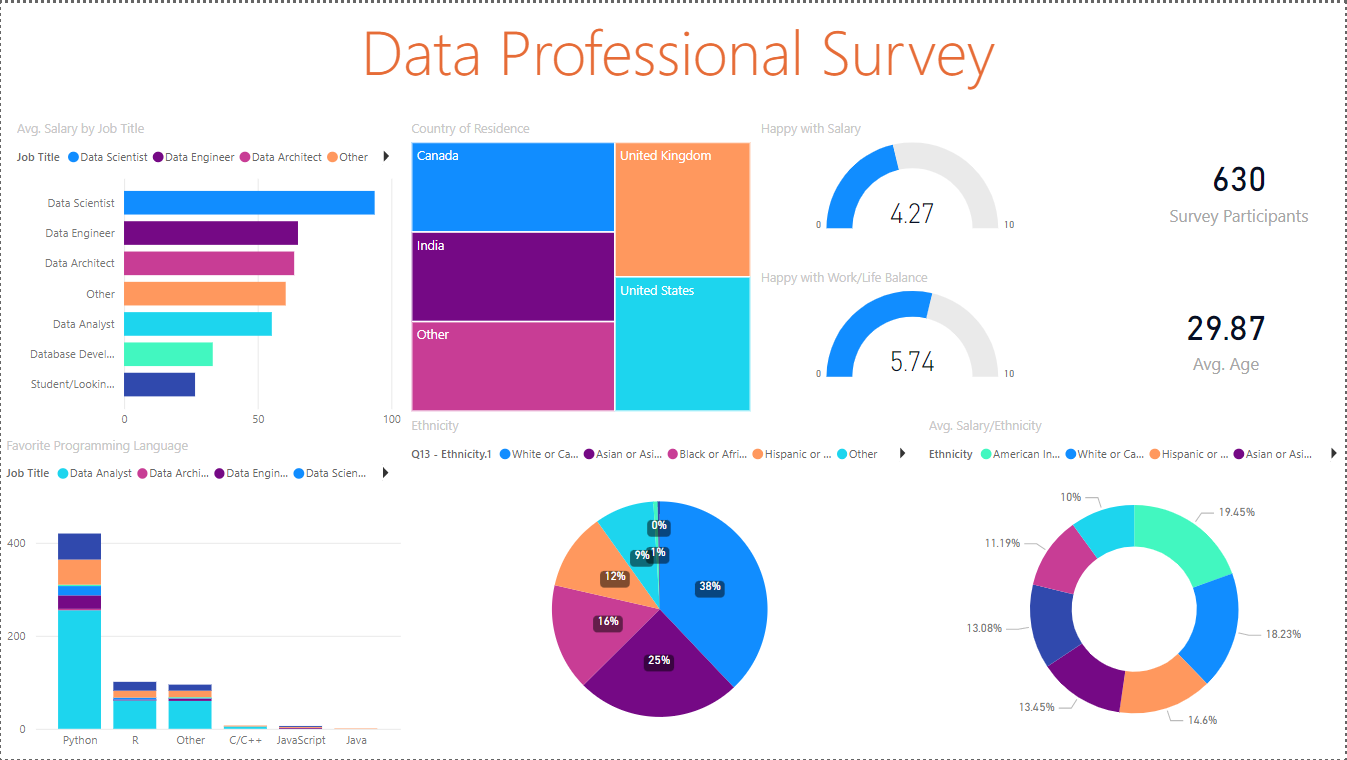

The page's visual inventory and layout, read from the dashboard file:
{"tool":"powerbi","page":{"name":"Page 1","canvas":[1280,720],"ordinal":0},"visuals":[{"type":"textbox","box":[9.9,0,1269.6,110.8],"z":0},{"type":"card","fields":{"Values":["Count(Data Professional Survey.Unique ID)"]},"box":[1079,111.4,200.5,128.1],"z":1000},{"type":"card","fields":{"Values":["Avg(Data Professional Survey.Q10 - Current Age)"]},"box":[1052.6,253.4,226.9,128.1],"z":2000},{"type":"barChart","title":"Avg. Salary by Job Title","fields":{"Category":["Data Professional Survey.Q1 - Which Title Best Fits your Current Role?.1"],"Y":["Avg(Data Professional Survey.Current Yearly Salary (in USD) avg.)"],"Series":["Data Professional Survey.Q1 - Which Title Best Fits your Current Role?.1"]},"box":[9.7,111.4,375.9,302.1],"z":3000},{"type":"columnChart","title":"Favorite Programming Language","fields":{"Category":["Data Professional Survey.Q5 - Favorite Programming Language.1"],"Y":["CountNonNull(Data Professional Survey.Unique ID)"],"Series":["Data Professional Survey.Q1 - Which Title Best Fits your Current Role?.1"]},"box":[0,413.5,385.7,306.3],"z":4000},{"type":"treemap","title":"Country of Residence","fields":{"Group":["Data Professional Survey.Q11 - Which Country do you live in?.1"],"Values":["Count(Data Professional Survey.Q11 - Which Country do you live in?.1)"]},"box":[385.7,111.4,332.8,282.6],"z":5000},{"type":"gauge","title":"Happy with Salary","fields":{"Y":["Avg(Data Professional Survey.Q6 - How Happy are you in your Current Position with the following? (Salary))"],"MinValue":["Min(Data Professional Survey.Q6 - How Happy are you in your Current Position with the following? (Salary))"],"MaxValue":["Max(Data Professional Survey.Q6 - How Happy are you in your Current Position with the following? (Salary))"]},"box":[718.4,111.4,303.5,112.8],"z":6000},{"type":"gauge","title":"Happy with Work/Life Balance","fields":{"Y":["Avg(Data Professional Survey.Q6 - How Happy are you in your Current Position with the following? (Work/Life Balance))"],"MinValue":["Min(Data Professional Survey.Q6 - How Happy are you in your Current Position with the following? (Work/Life Balance))"],"MaxValue":["Max(Data Professional Survey.Q6 - How Happy are you in your Current Position with the following? (Work/Life Balance))"]},"box":[718.4,253.4,303.5,112.8],"z":7000},{"type":"pieChart","title":"Ethnicity","fields":{"Category":["Data Professional Survey.Q13 - Ethnicity.1"],"Y":["CountNonNull(Data Professional Survey.Q13 - Ethnicity.1)"]},"box":[385.7,394,483.1,323],"z":8000},{"type":"donutChart","title":"Avg. Salary/Ethnicity","fields":{"Category":["Data Professional Survey.Q13 - Ethnicity.1"],"Y":["Avg(Data Professional Survey.Current Yearly Salary (in USD) avg.)"]},"box":[878.6,394,401,323],"z":9000}]}

Visuals, with their boxes in screenshot pixels (x1, y1, x2, y2), scaled from the page's 1280x720 canvas onto the 1347x760 screenshot:
textbox: 10 0 1346 117
card - Count(Data Professional Survey.Unique ID): 1135 118 1346 253
card - Avg(Data Professional Survey.Q10 - Current Age): 1108 267 1346 403
"Avg. Salary by Job Title" barChart: 10 118 406 436
"Favorite Programming Language" columnChart: 0 436 406 759
"Country of Residence" treemap: 406 118 756 416
"Happy with Salary" gauge: 756 118 1075 237
"Happy with Work/Life Balance" gauge: 756 267 1075 387
"Ethnicity" pieChart: 406 416 914 757
"Avg. Salary/Ethnicity" donutChart: 925 416 1346 757
